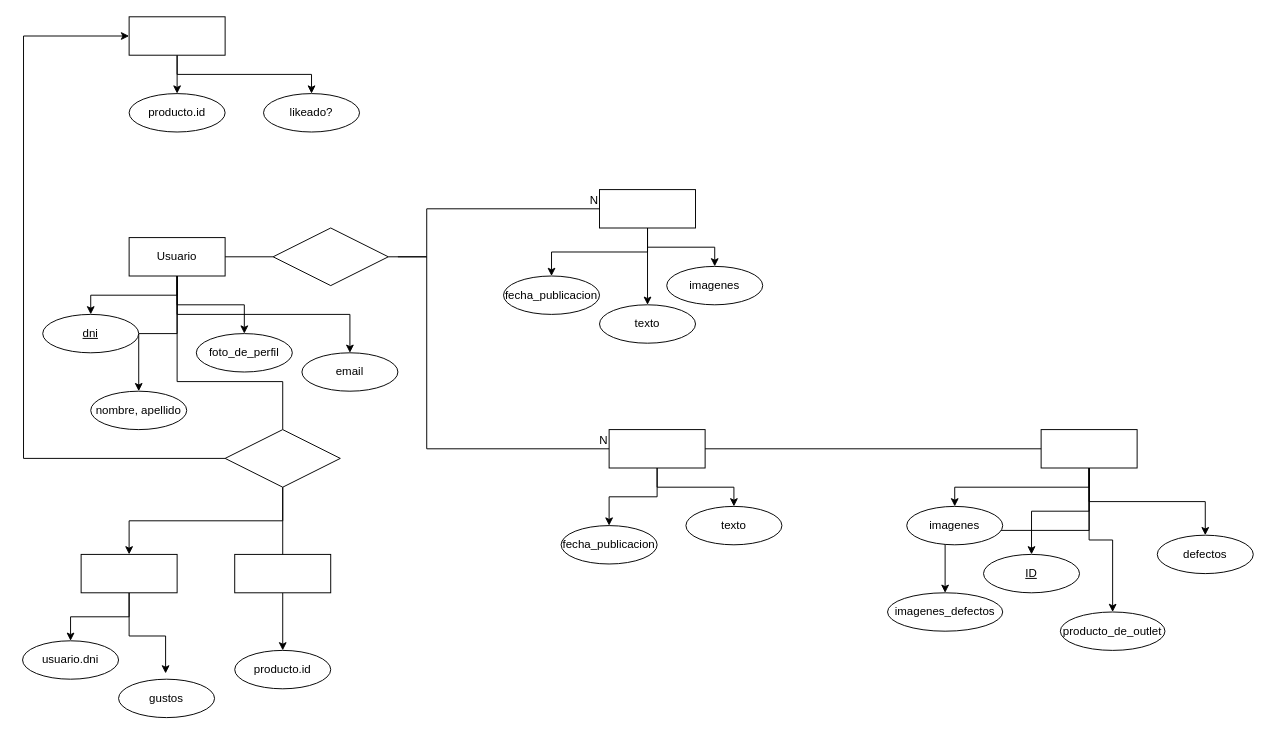
This 1270x734 diagram has some shape labels left out. Here are the shapes that lost their labels. From the top down, the box of each, then its label:
(128, 16, 225, 55): Liked
(599, 189, 696, 228): Reseñas
(272, 227, 388, 286): publico
(224, 429, 340, 487): tiene
(608, 429, 705, 468): Publicaciones
(1040, 429, 1137, 468): Producto
(80, 553, 177, 593): Perfilado de Usuario
(234, 553, 331, 593): Carrito
